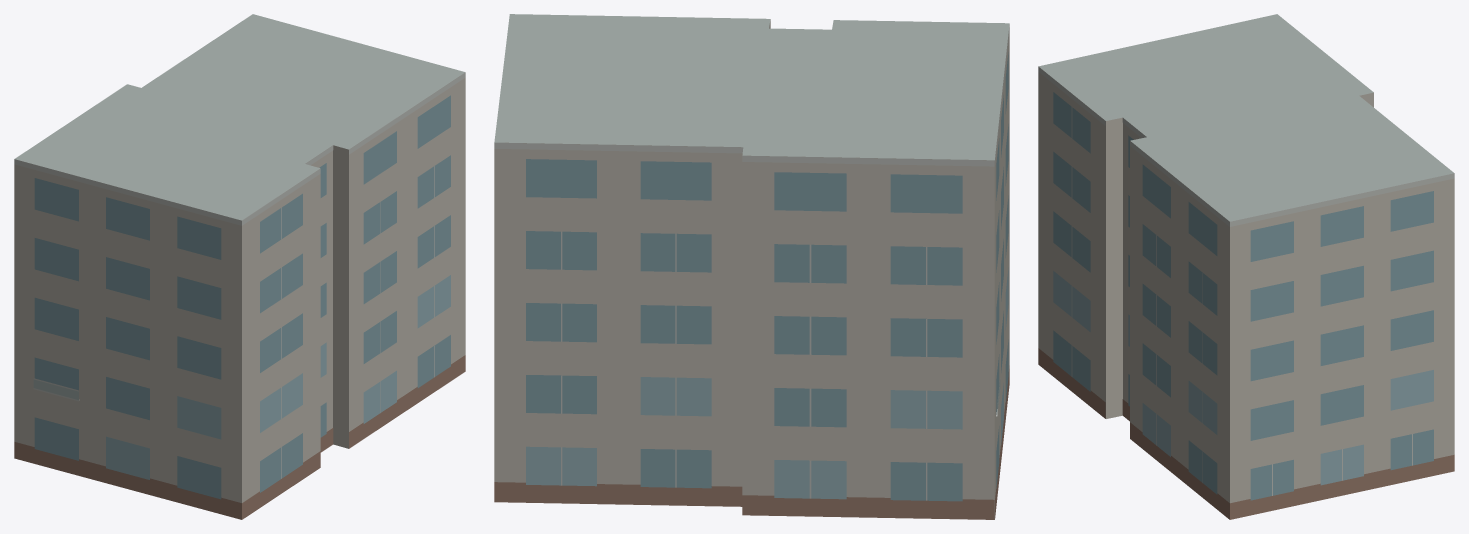
File: survey-upis-32831068.glb
3 renders of one model, left to right at view 1: azimuth 30°, elevation 25°; view 2: azimuth 150°, elevation 25°; view 3: azimuth 270°, elevation 25°, orthographic. The views are drawn at different scales.
Visible parts, largest first — view 1: survey-upis-32831068.tmp; view 2: survey-upis-32831068.tmp; view 3: survey-upis-32831068.tmp.
Part boxes in pixels (<box>): survey-upis-32831068.tmp: <box>14,14,465,519</box>; survey-upis-32831068.tmp: <box>494,14,1009,519</box>; survey-upis-32831068.tmp: <box>1038,14,1454,519</box>.
Size of the model in its own units: 20.79 by 13.9 by 17.6.
